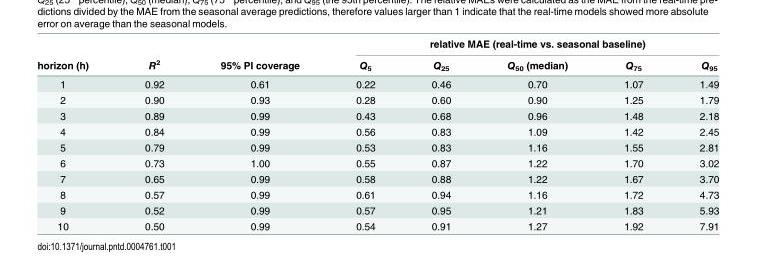table: (36, 37, 718, 231)
table column: (191, 37, 326, 231), (478, 37, 595, 231), (36, 37, 115, 231), (115, 37, 191, 231), (326, 37, 402, 231), (402, 37, 478, 231), (595, 37, 670, 231), (670, 37, 718, 231)
table column header: (36, 37, 718, 74)
table row: (36, 53, 718, 74), (36, 74, 718, 91), (36, 37, 718, 53), (36, 91, 718, 107), (36, 107, 718, 123), (36, 138, 718, 154), (36, 154, 718, 170), (36, 170, 718, 186), (36, 186, 718, 202), (36, 123, 718, 138), (36, 202, 718, 217), (36, 217, 718, 231)
table spanning cell: (326, 37, 718, 53), (191, 37, 326, 74), (36, 37, 115, 74), (115, 37, 191, 74)
